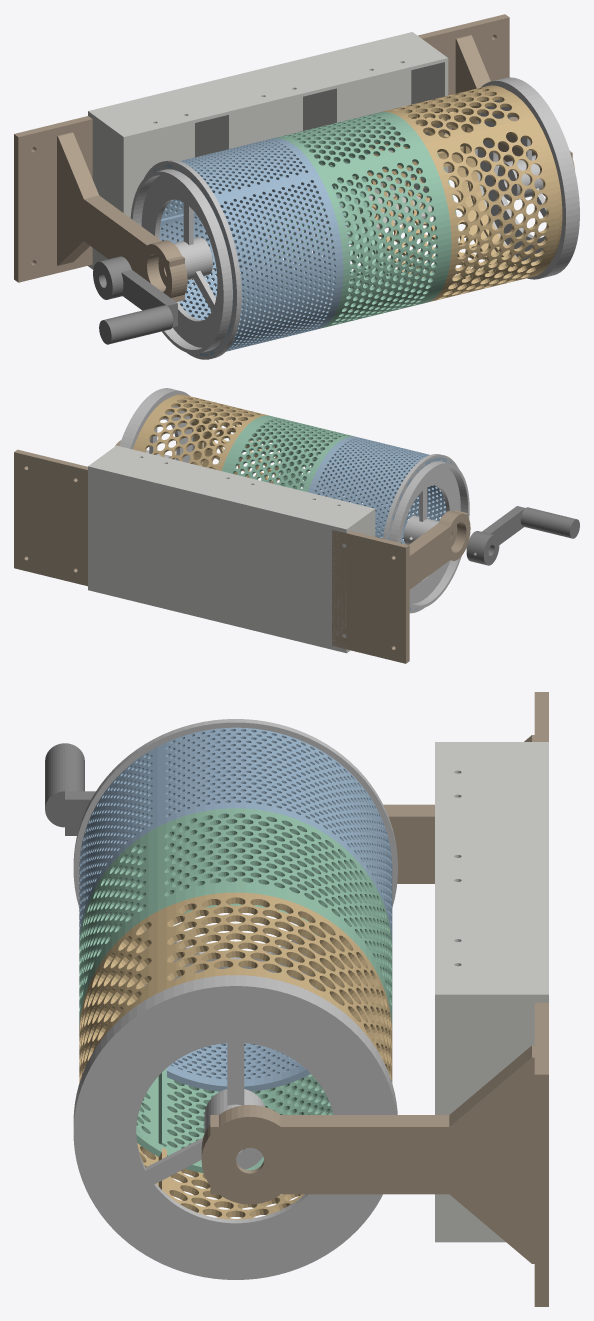
Rendered from trommel_assembly.glb.
3 views of the same model, one above another, from view 1: azimuth 30°, elevation 25°; view 2: azimuth 150°, elevation 25°; view 3: azimuth 270°, elevation 25° (orthographic). The views are drawn at different scales.
Visible parts, largest first — view 1: zone_2, zone_4, zone_7, stand_inlet, bin_0, cap_inlet, bin_2, bin_1, cap_outlet, stand_outlet, crank; view 2: bin_1, bin_2, bin_0, stand_inlet, stand_outlet, zone_2, zone_4, zone_7, cap_inlet, crank, cap_outlet; view 3: cap_outlet, stand_outlet, zone_4, zone_2, zone_7, bin_2, bin_0, bin_1, cap_inlet, stand_inlet, crank.
Part boxes in pixels (left/top/right/bottom): zone_2: left=153, top=138, right=350, bottom=356; zone_4: left=249, top=112, right=458, bottom=328; zone_7: left=355, top=85, right=562, bottom=302; stand_inlet: left=14, top=116, right=187, bottom=301; bin_0: left=88, top=85, right=231, bottom=270; cap_inlet: left=130, top=160, right=241, bottom=359; bin_2: left=305, top=32, right=448, bottom=237; bin_1: left=196, top=58, right=339, bottom=255; cap_outlet: left=465, top=77, right=579, bottom=279; stand_outlet: left=418, top=14, right=574, bottom=195; crank: left=93, top=256, right=177, bottom=344; bin_1: left=174, top=466, right=288, bottom=632; bin_2: left=88, top=445, right=202, bottom=610; bin_0: left=260, top=487, right=375, bottom=653; stand_inlet: left=332, top=510, right=470, bottom=663; stand_outlet: left=14, top=440, right=121, bottom=586; zone_2: left=303, top=436, right=451, bottom=610; zone_4: left=218, top=415, right=366, bottom=504; zone_7: left=133, top=394, right=287, bottom=483; cap_inlet: left=383, top=454, right=469, bottom=613; crank: left=466, top=506, right=579, bottom=565; cap_outlet: left=119, top=388, right=202, bottom=463; cap_outlet: left=73, top=975, right=397, bottom=1279; stand_outlet: left=201, top=1002, right=548, bottom=1306; zone_4: left=79, top=808, right=392, bottom=1173; zone_2: left=79, top=727, right=392, bottom=1091; zone_7: left=79, top=892, right=392, bottom=1219; bin_2: left=435, top=910, right=548, bottom=1242; bin_0: left=435, top=742, right=548, bottom=826; bin_1: left=435, top=826, right=548, bottom=910; cap_inlet: left=73, top=719, right=397, bottom=985; stand_inlet: left=383, top=692, right=548, bottom=883; crank: left=45, top=743, right=95, bottom=835.
Size of the model in its own units: 357 by 114 by 177.
